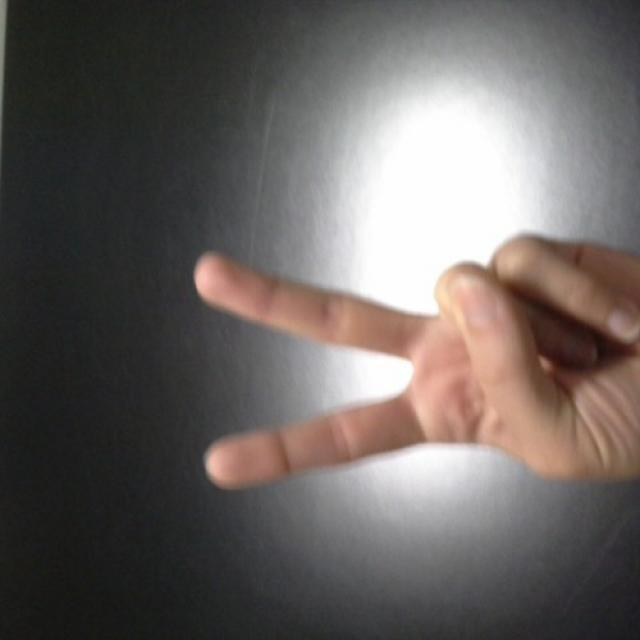scissors: (198, 230, 640, 492)
